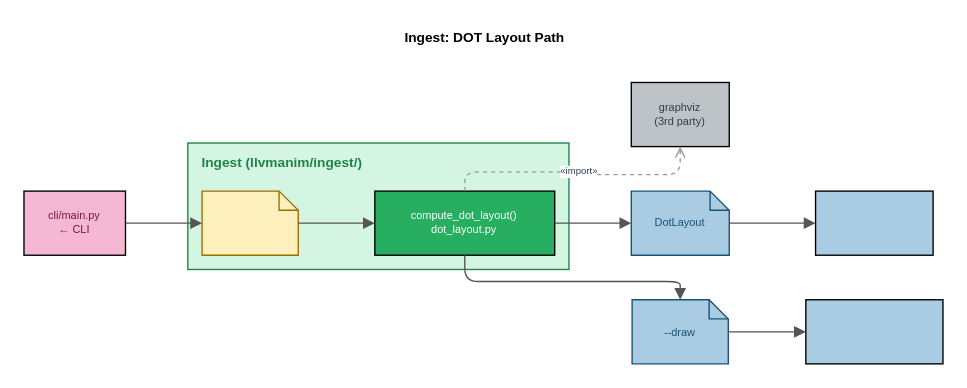
This 967x388 diagram has some shape labels left out. The shapes that lost their labels are listed below. From the top down, each one's centre as x and y in pixels, then its label:
At (x=249, y=222): ".dot file".
At (x=873, y=222): "CFGRenderer → Render".
At (x=873, y=331): "graphviz_export → Render".
